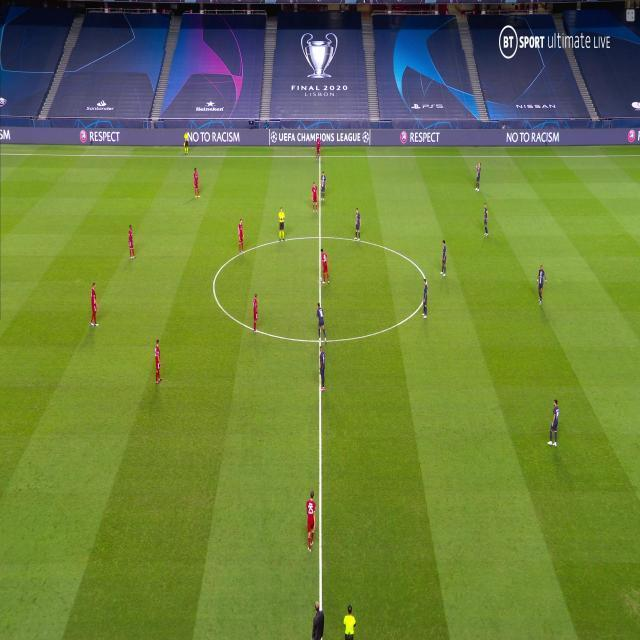ball: (319, 277, 323, 283)
player: (303, 490, 318, 555), (547, 398, 561, 448), (89, 281, 100, 329), (153, 339, 163, 387), (536, 264, 547, 307), (316, 302, 326, 343), (421, 272, 429, 319), (320, 248, 330, 285), (251, 294, 260, 335), (318, 346, 326, 392), (127, 223, 136, 261), (237, 218, 246, 256), (192, 166, 201, 200), (440, 239, 448, 277), (473, 160, 482, 193), (482, 202, 490, 237), (354, 207, 362, 242), (320, 170, 327, 205), (312, 180, 319, 215), (315, 135, 322, 165)
referee: (343, 603, 358, 640), (277, 206, 286, 245), (183, 128, 191, 156)
